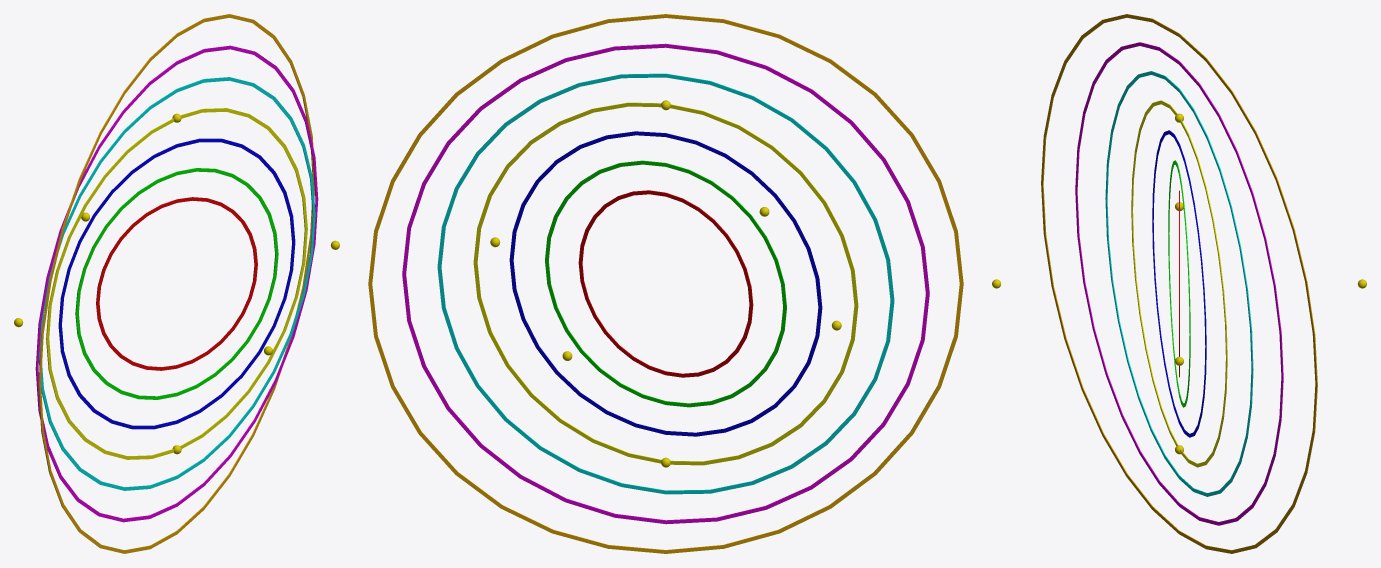
Rendered from AtlasVI_VII_RainbowBridge_Full.glb.
3 views of the same model, side by side, from view 1: azimuth 30°, elevation 25°; view 2: azimuth 150°, elevation 25°; view 3: azimuth 270°, elevation 25° (orthographic). The views are drawn at different scales.
Parts seen in each view (by area): view 1: world; view 2: world; view 3: world.
Boxes of the visible parts, x1,y1,x2,y2 form: world: (14, 14, 339, 553); world: (368, 14, 963, 553); world: (992, 14, 1366, 553).
Size of the model in its own units: 5.24 by 6.04 by 4.1.
